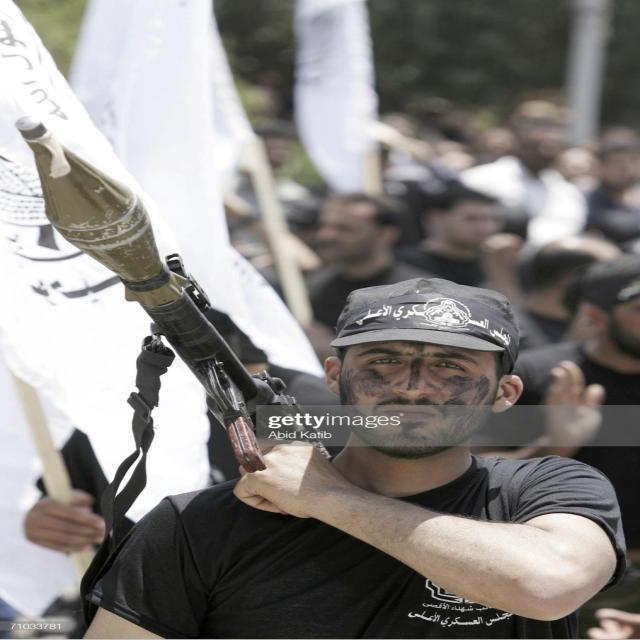bazooka: (12, 111, 371, 511)
